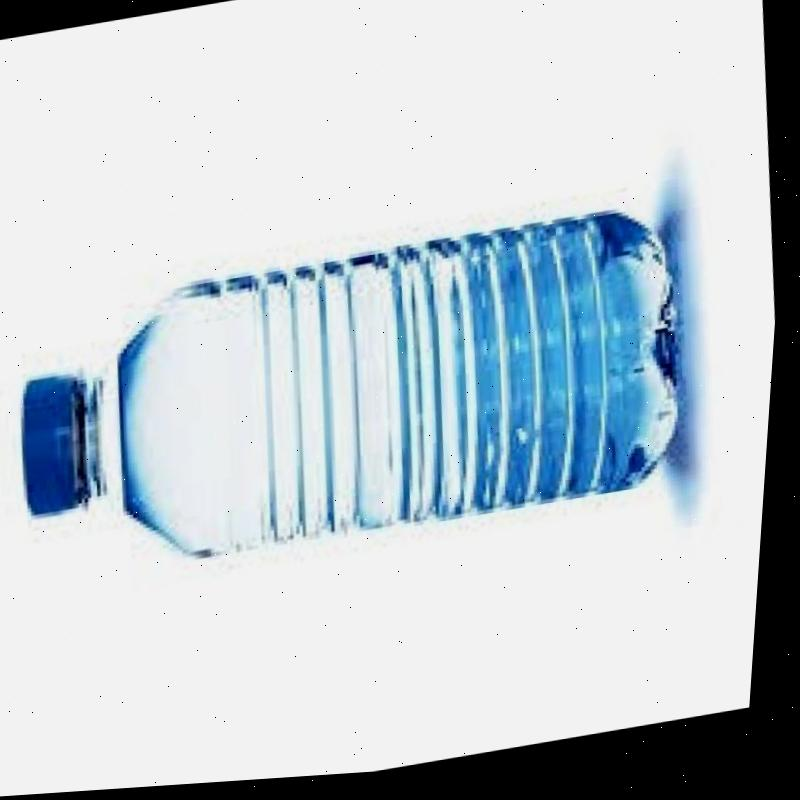botella: (4, 211, 703, 598)
